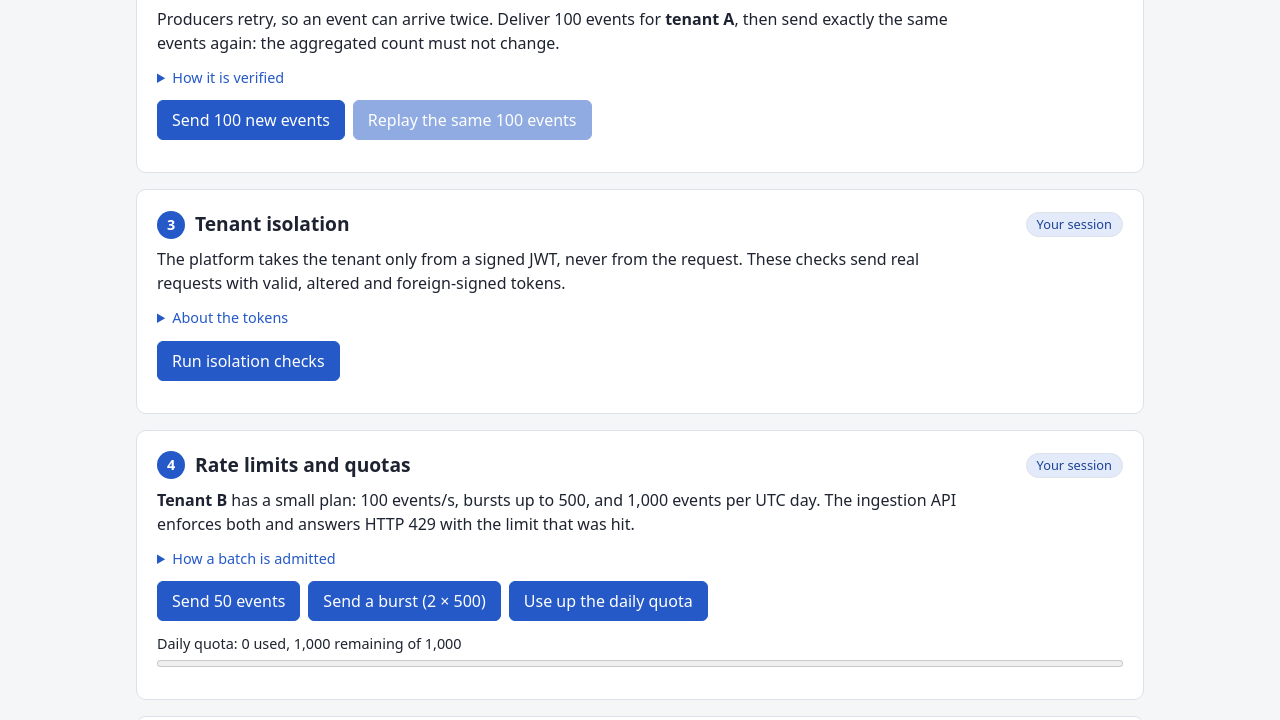
Test case: App › returns to the start screen when the session has expired
This screenshot has width=1280, height=720.
(page scrolled)
Step 1. Click the button "Run isolation checks" → (248, 361), box [157,341,340,381]
(page scrolled)
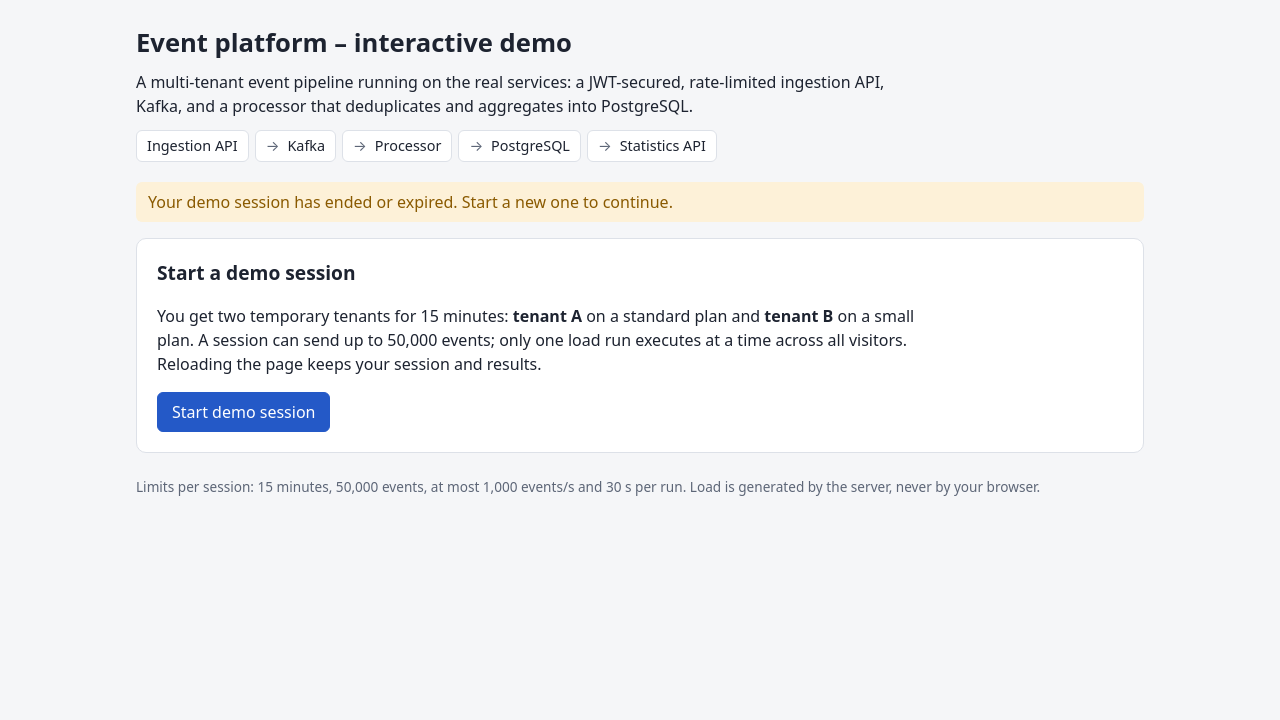
Check: the text "Your demo session has ended or expired. Start a new one to continue." is shown, box [136,182,1144,222]
Check: the button "Start demo session" is shown, box [157,392,330,432]
